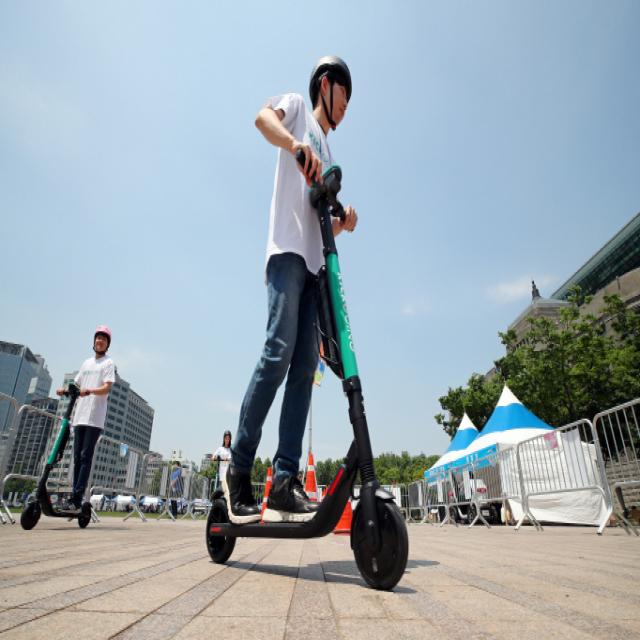helmet: (195, 27, 420, 601)
